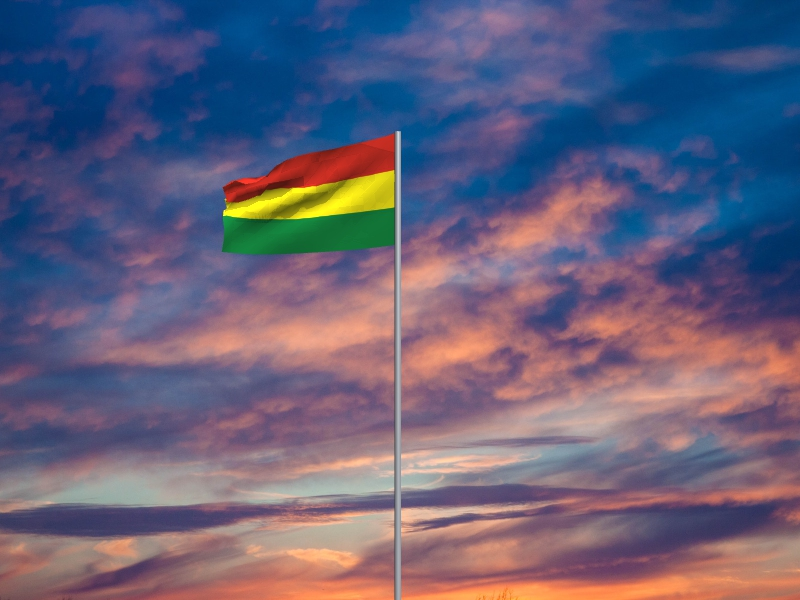bo: (221, 134, 396, 257)
